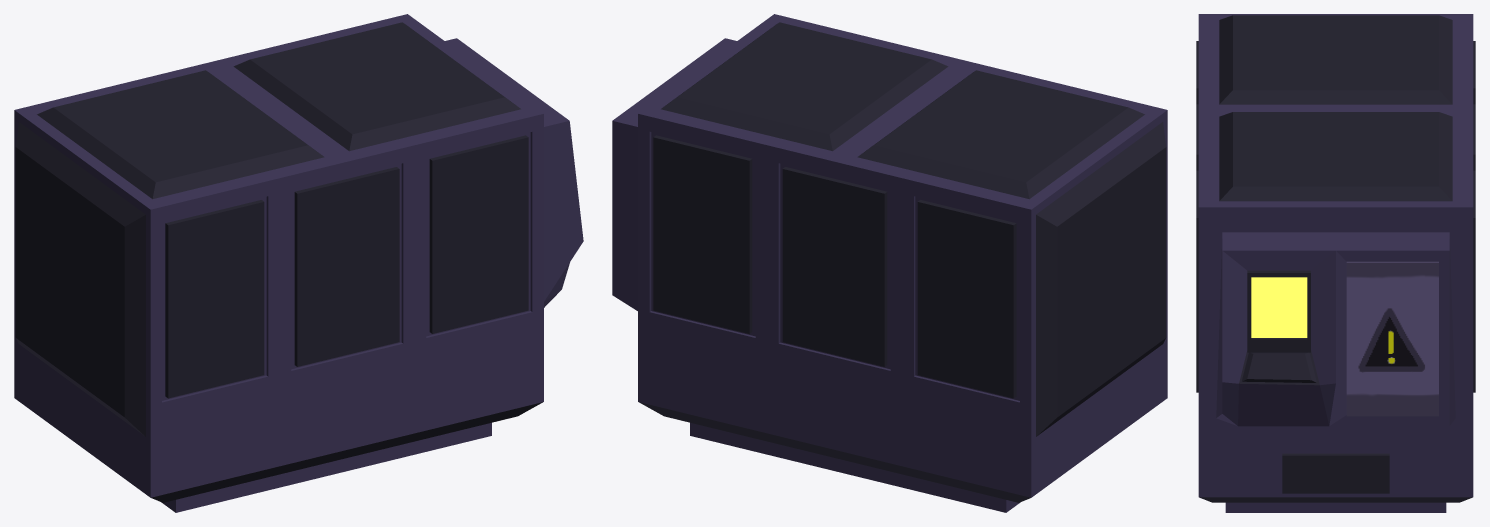
File: Generator.fbx
The picture shows the model from 3 angles, left to right: view 1: azimuth 30°, elevation 25°; view 2: azimuth 150°, elevation 25°; view 3: azimuth 270°, elevation 25°; orthographic projection.
Visible parts, largest first — view 1: Generator; view 2: Generator; view 3: Generator.
Boxes of the visible parts, x1,y1,x2,y2 form: Generator: [14, 14, 583, 512]; Generator: [612, 14, 1167, 512]; Generator: [1196, 14, 1475, 512].
Bounding box in the file's own units: 2.93 × 2.02 × 1.53.
